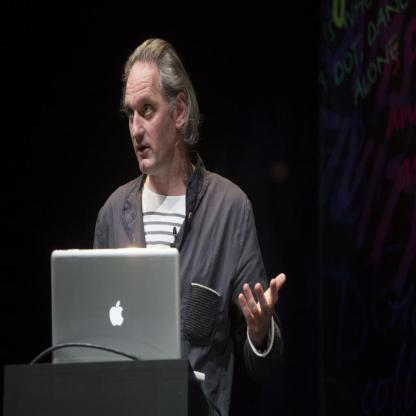board: (45, 243, 193, 375)
